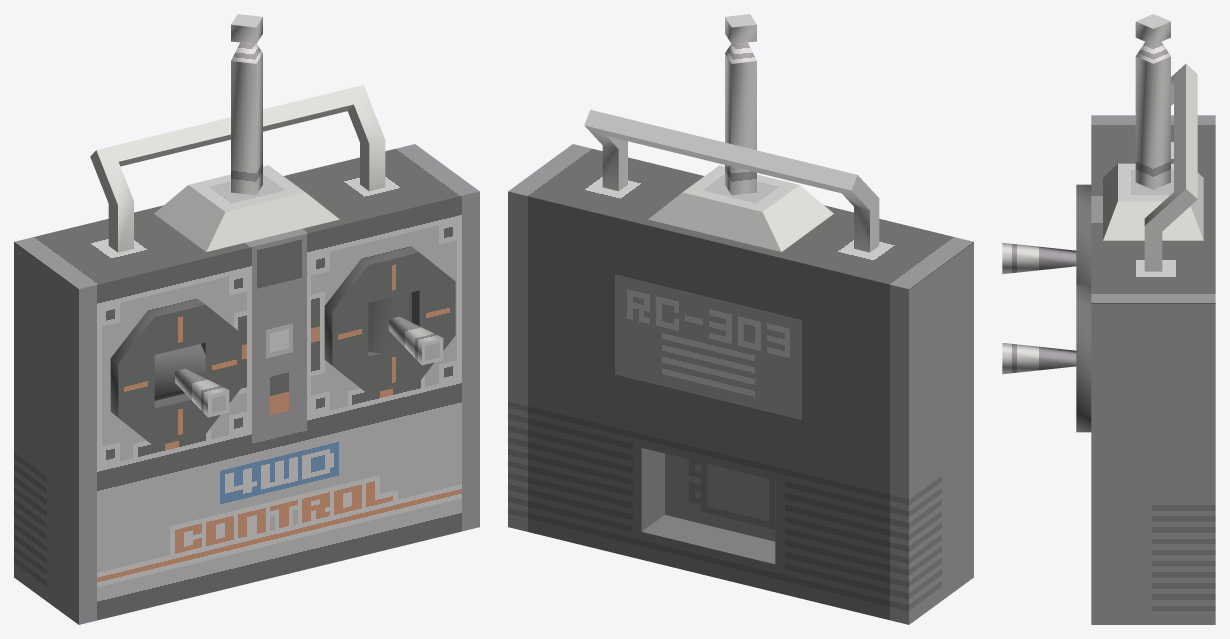
The model's file is 034d_RC_Controller.glb.
3 renders of one model, left to right at view 1: azimuth 30°, elevation 25°; view 2: azimuth 150°, elevation 25°; view 3: azimuth 270°, elevation 25°, orthographic. The views are drawn at different scales.
Visible parts, largest first — view 1: part_0; view 2: part_0; view 3: part_0.
Part boxes in pixels (x1,y1,x2,y2): part_0: (14,14,479,624); part_0: (508,14,973,624); part_0: (1002,14,1215,624).
Size of the model in its own units: 0.15 by 0.19 by 0.072.
1 material, 1 textured.
